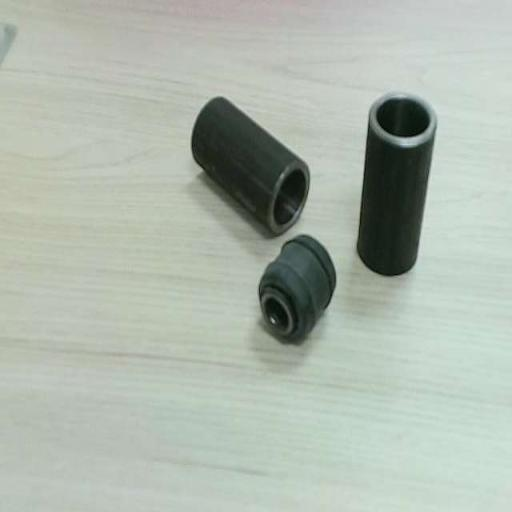peca: (192, 97, 309, 233), (357, 95, 436, 273), (258, 236, 335, 340)
